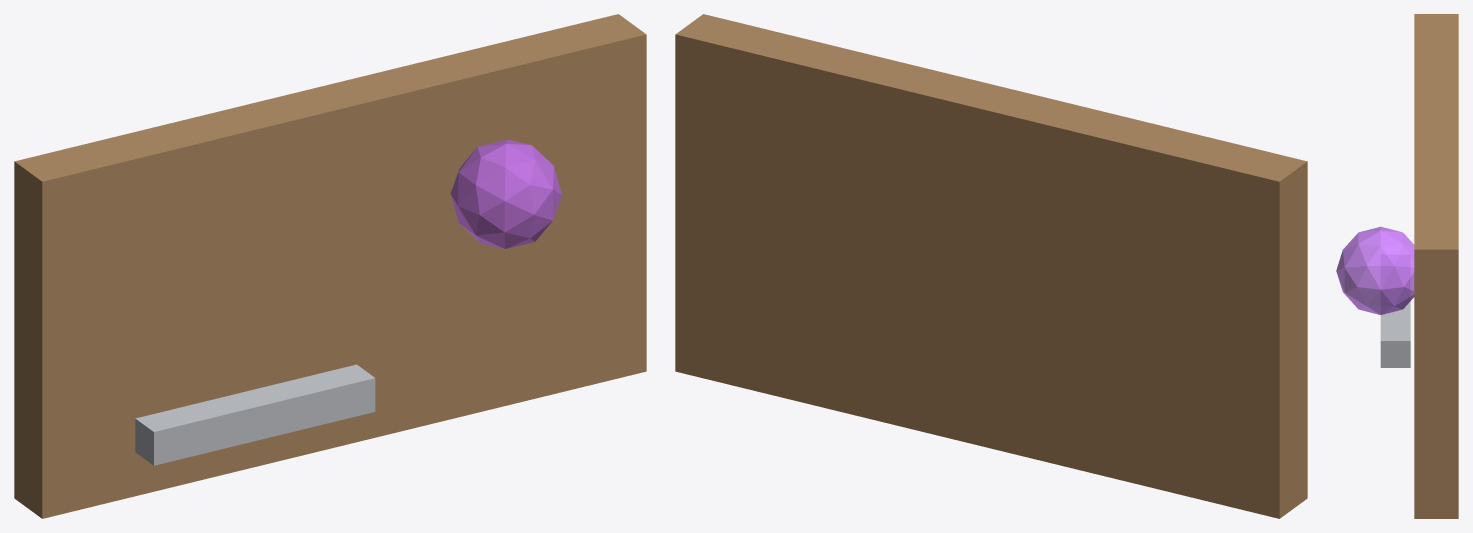
The model's file is tinker_bench_station.glb.
The picture shows the model from 3 angles, left to right: view 1: azimuth 30°, elevation 25°; view 2: azimuth 150°, elevation 25°; view 3: azimuth 270°, elevation 25°; orthographic projection. The views are drawn at different scales.
Parts seen in each view (by area): view 1: bench_top, tool_a, power_core; view 2: bench_top; view 3: bench_top, power_core, tool_a.
Part boxes in pixels (box(x1,y1,x2,y2)): bench_top: box(14, 14, 646, 518); tool_a: box(135, 364, 375, 465); power_core: box(450, 139, 561, 248); bench_top: box(675, 14, 1307, 518); bench_top: box(1414, 14, 1458, 518); power_core: box(1336, 226, 1414, 314); tool_a: box(1380, 255, 1410, 367).
Bounding box in the file's own units: 1.5 × 0.8 × 0.33.
